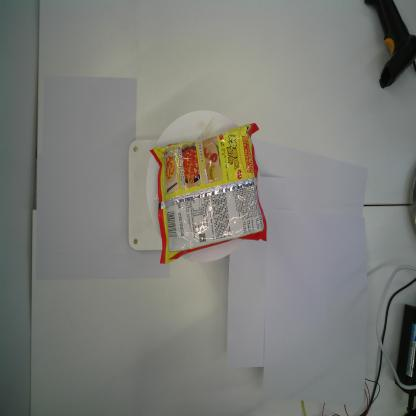Instant Noodles: (149, 122, 267, 265)
